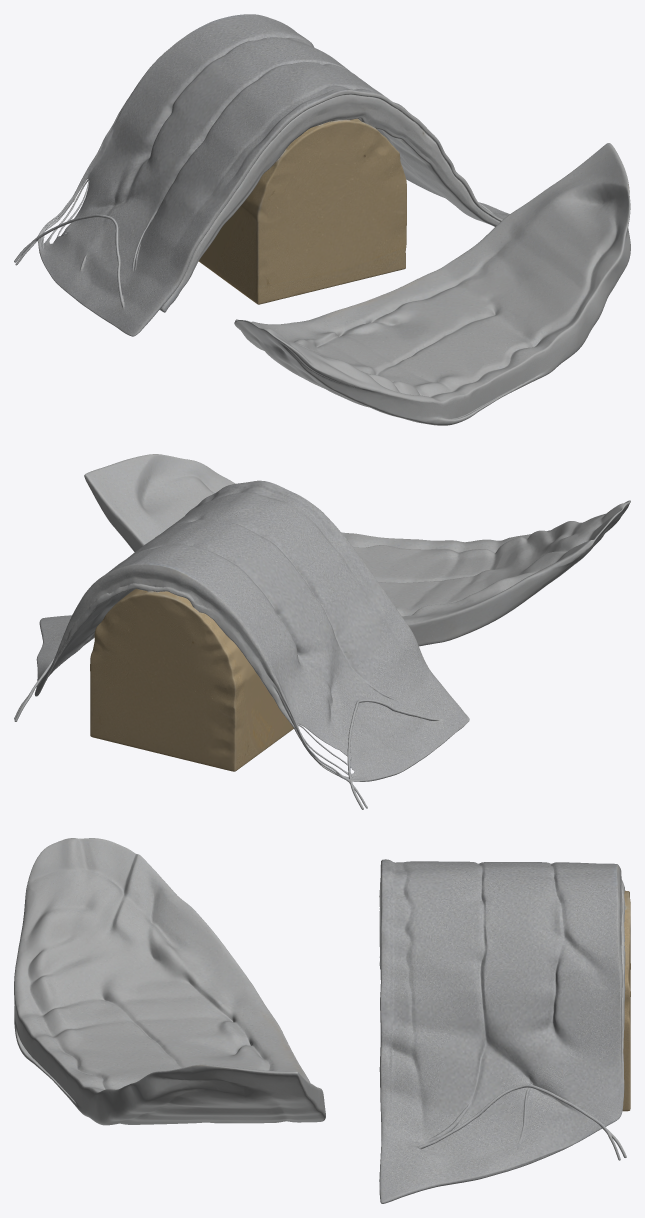
3 views of the same model, one above another, from view 1: azimuth 30°, elevation 25°; view 2: azimuth 150°, elevation 25°; view 3: azimuth 270°, elevation 25° (orthographic). The views are drawn at different scales.
Size of the model in its own units: 1.73 by 0.7353 by 1.9.
1 material, 1 textured.
